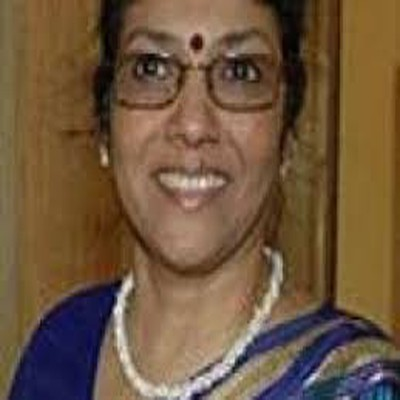eywear: (93, 33, 324, 142)
